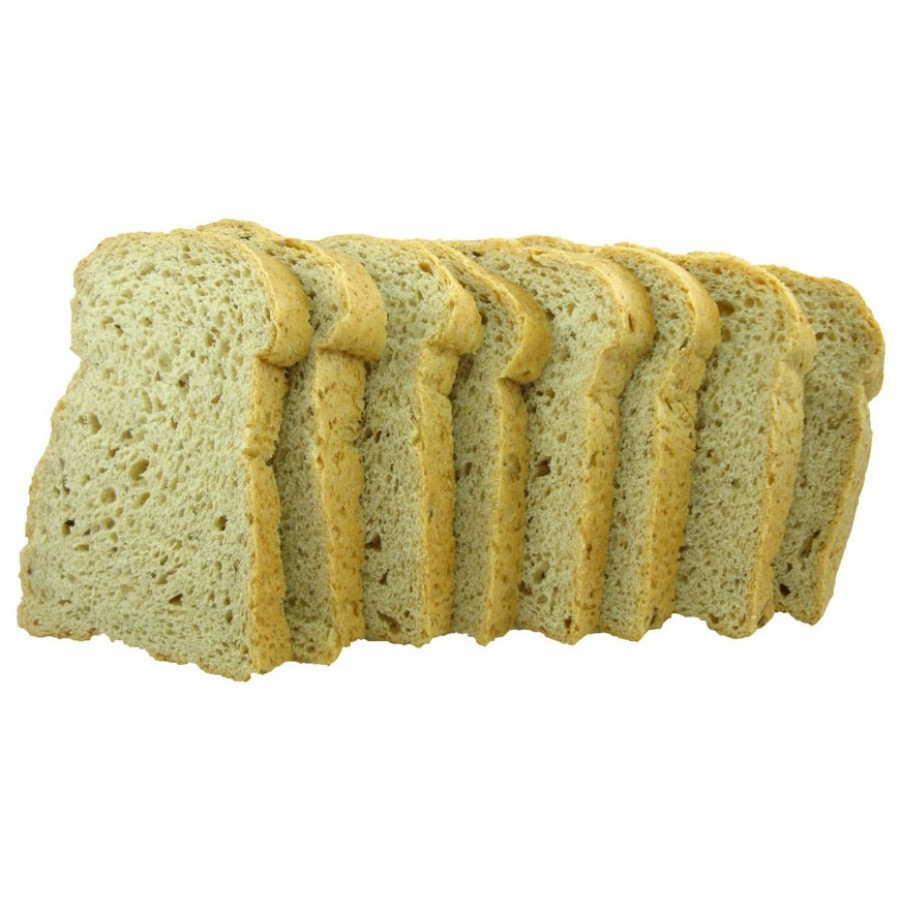slice of bread: (127, 241, 836, 625)
